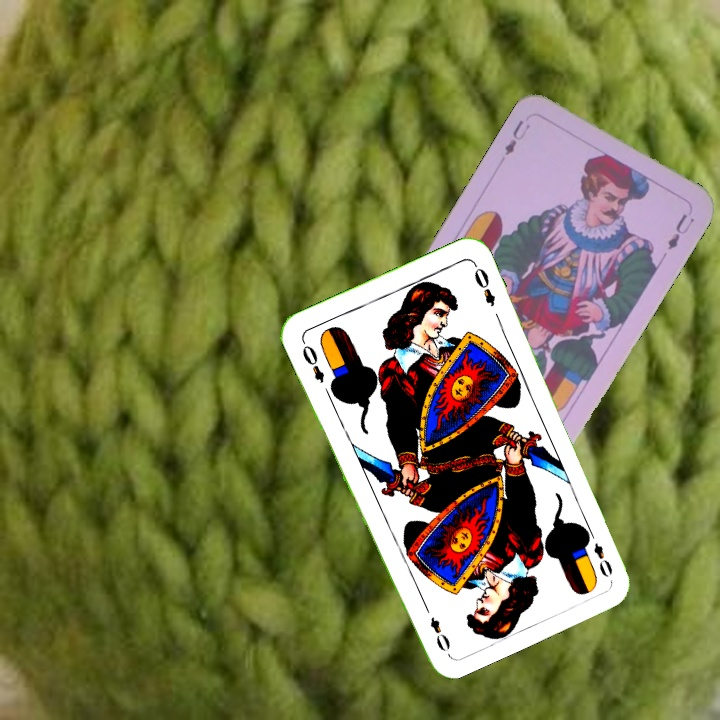EO: (582, 525, 615, 581), (298, 336, 328, 385)
EU: (500, 116, 533, 159)
